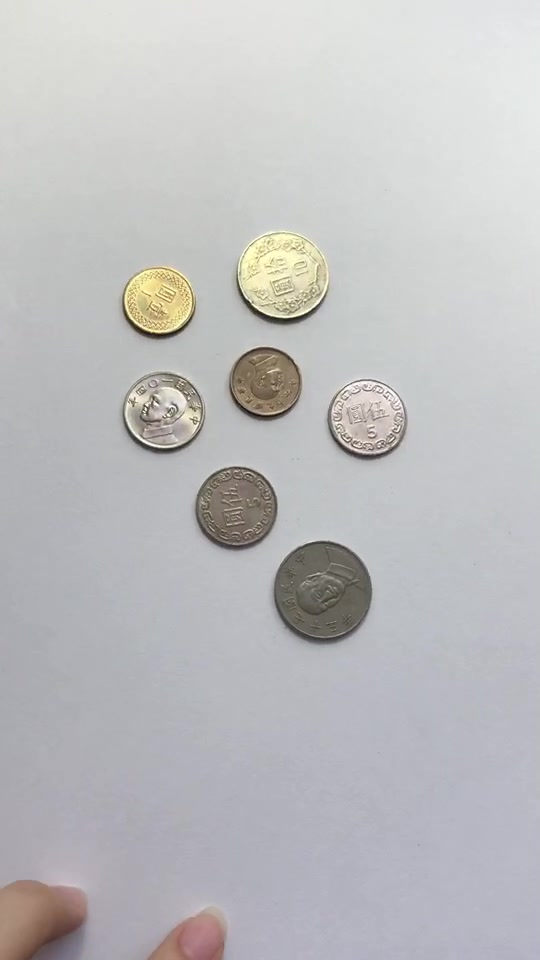1 dallar: (114, 257, 204, 344), (220, 339, 310, 426)
10 dallar: (264, 535, 385, 647), (228, 224, 344, 328)
5 dallar: (116, 366, 215, 459), (325, 373, 424, 466), (189, 459, 288, 552)
